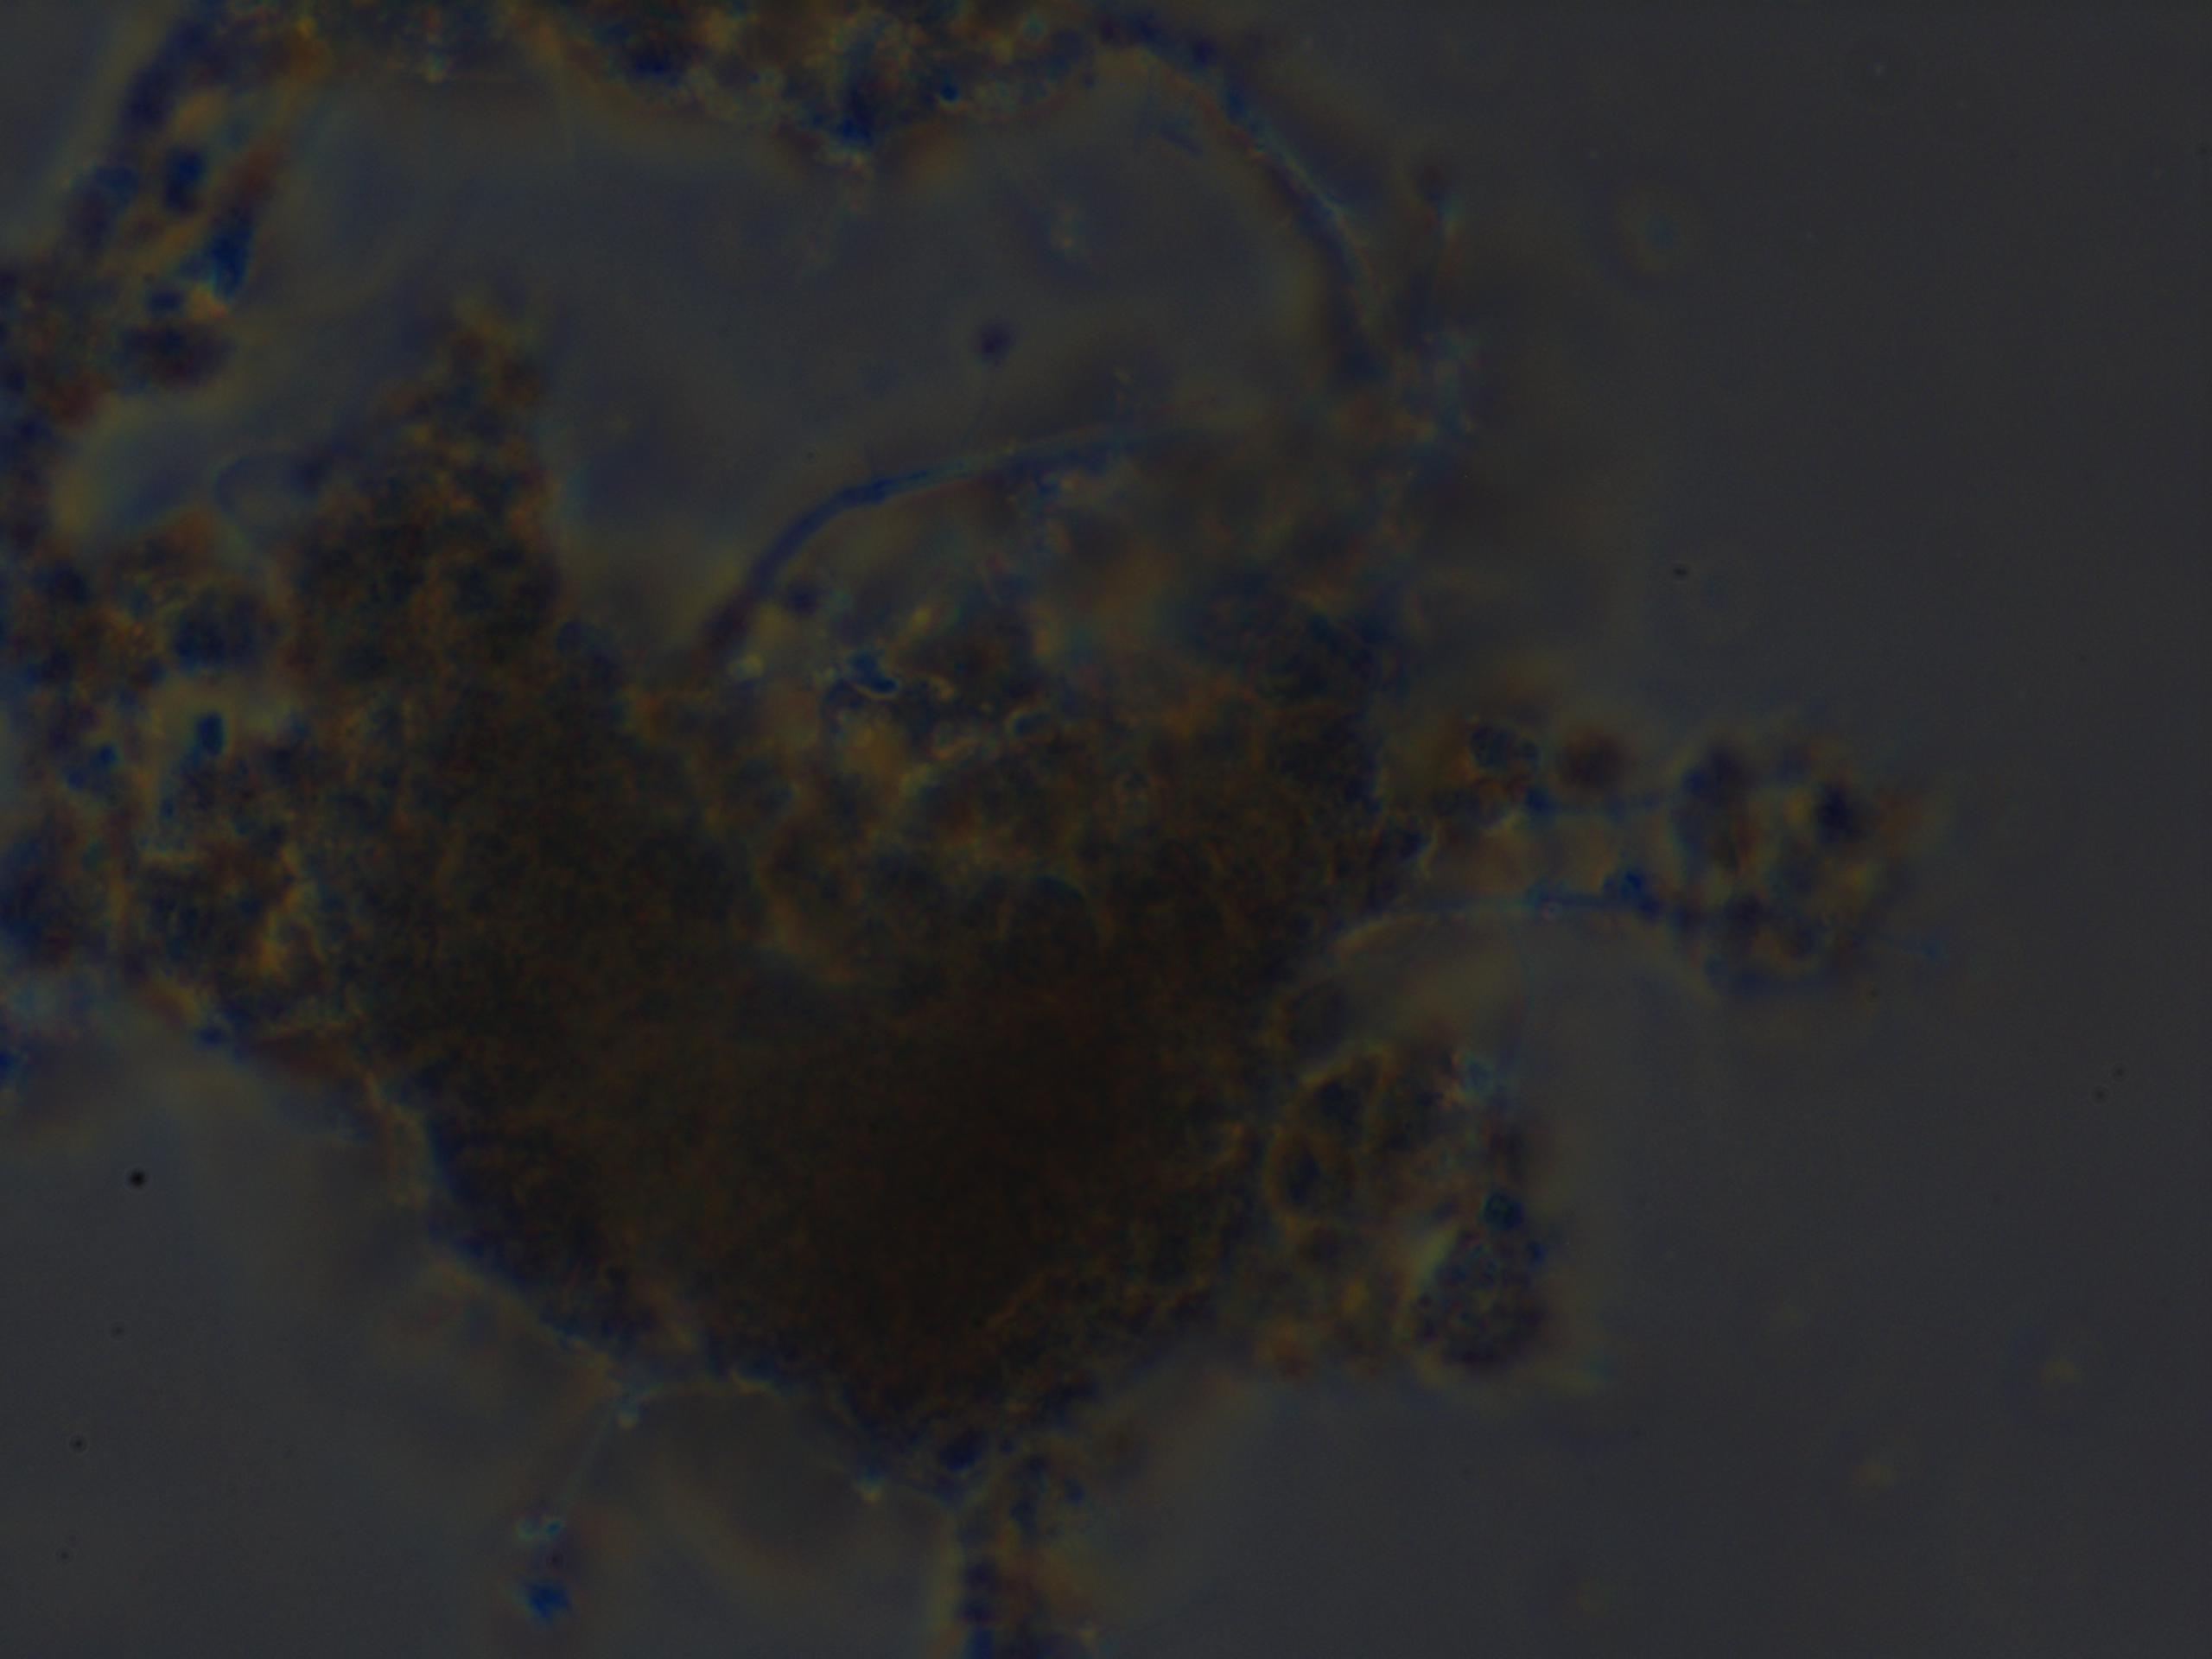filament: (686, 368, 1195, 674), (1073, 5, 1463, 376), (474, 1347, 681, 1626), (897, 1452, 1080, 1659)
